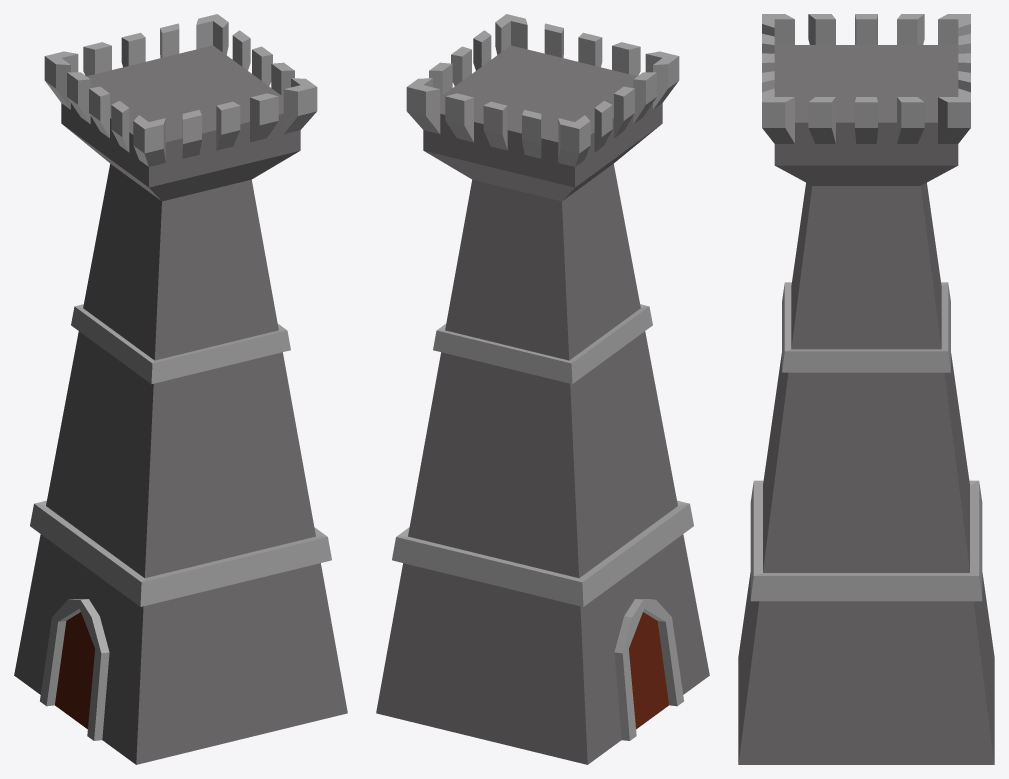
Rendered from Tower.fbx.
3 views of the same model, side by side, from view 1: azimuth 30°, elevation 25°; view 2: azimuth 150°, elevation 25°; view 3: azimuth 270°, elevation 25° (orthographic). The views are drawn at different scales.
Visible parts, largest first — view 1: Cube; view 2: Cube; view 3: Cube.
Part boxes in pixels (<box>): Cube: <box>14,14,347,764</box>; Cube: <box>376,14,709,764</box>; Cube: <box>738,14,994,764</box>.
Bounding box in the file's own units: 397 × 1075 × 382.
